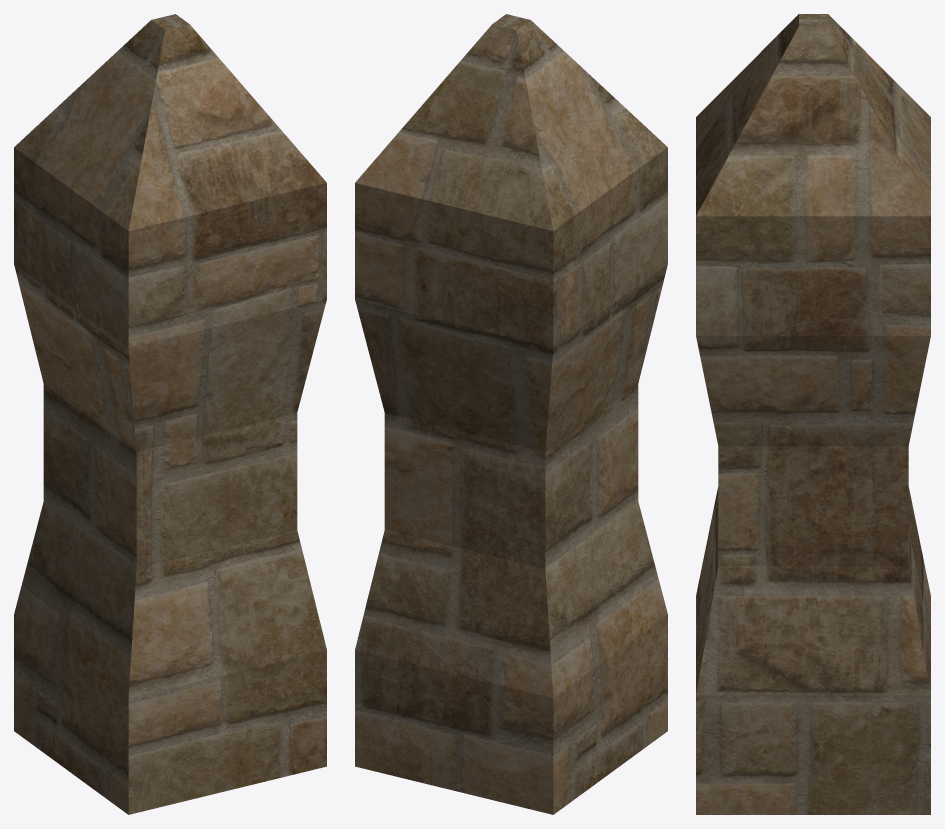
Rendered from pillar.obj.
3 views of the same model, side by side, from view 1: azimuth 30°, elevation 25°; view 2: azimuth 150°, elevation 25°; view 3: azimuth 270°, elevation 25° (orthographic). The views are drawn at different scales.
Parts seen in each view (by area): view 1: Pillar_Plane; view 2: Pillar_Plane; view 3: Pillar_Plane.
Boxes of the visible parts, box(x1,y1,x2,y2) form: Pillar_Plane: box(14, 14, 326, 814); Pillar_Plane: box(355, 14, 667, 814); Pillar_Plane: box(696, 14, 930, 814).
Size of the model in its own units: 4 by 14 by 4.
1 material, 1 textured.
